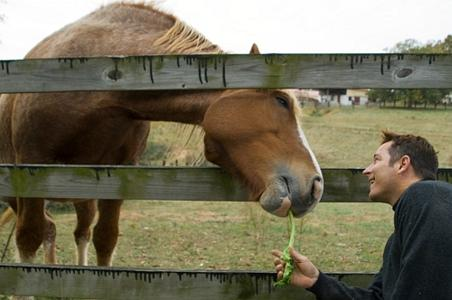person: (276, 130, 452, 300)
